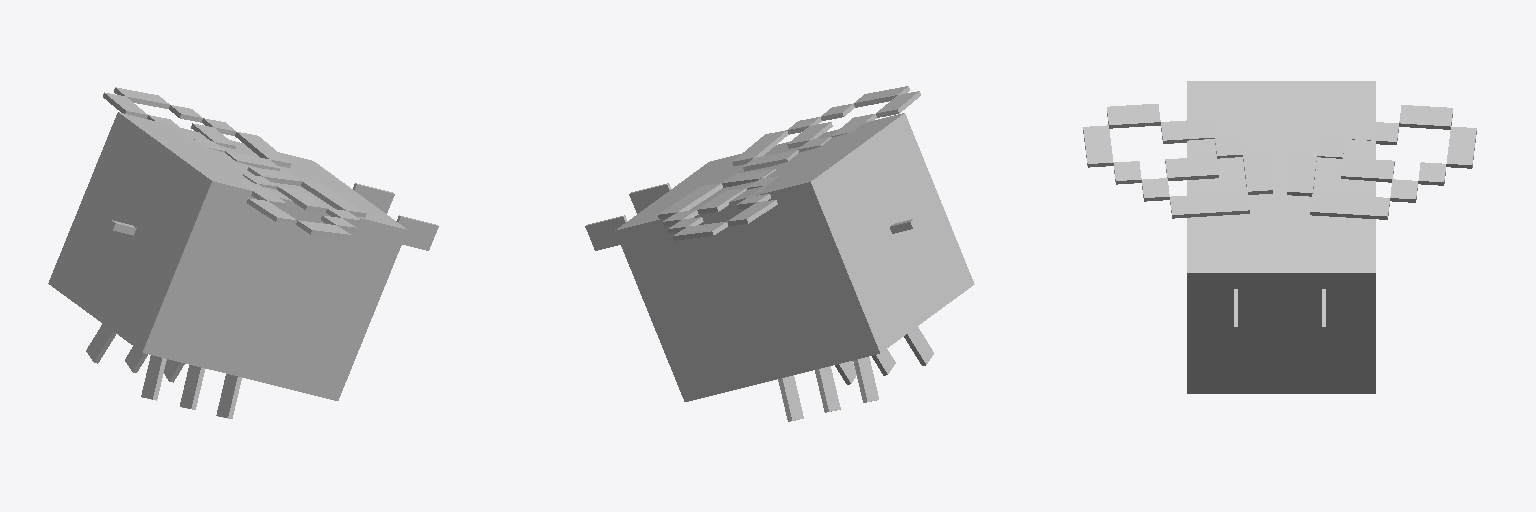
The model's file is Bee_ (88).obj.
3 views of the same model, side by side, from view 1: azimuth 30°, elevation 25°; view 2: azimuth 150°, elevation 25°; view 3: azimuth 270°, elevation 25° (orthographic).
Visible parts, largest first — view 1: b_Bee_MAT_0, l_Bee_MAT_0, r_Bee_MAT_0; view 2: b_Bee_MAT_0, l_Bee_MAT_0, r_Bee_MAT_0; view 3: b_Bee_MAT_0, l_Bee_MAT_0, r_Bee_MAT_0.
Part boxes in pixels (x1,y1,x2,y2): b_Bee_MAT_0: (48,112,438,418); l_Bee_MAT_0: (241,167,366,238); r_Bee_MAT_0: (103,87,291,170); b_Bee_MAT_0: (585,113,974,421); l_Bee_MAT_0: (732,86,920,171); r_Bee_MAT_0: (658,169,778,240); b_Bee_MAT_0: (1187,81,1375,393); l_Bee_MAT_0: (1083,104,1272,218); r_Bee_MAT_0: (1287,105,1476,219).
Bounding box in the file's own units: 0.3078 × 0.2408 × 0.3276.